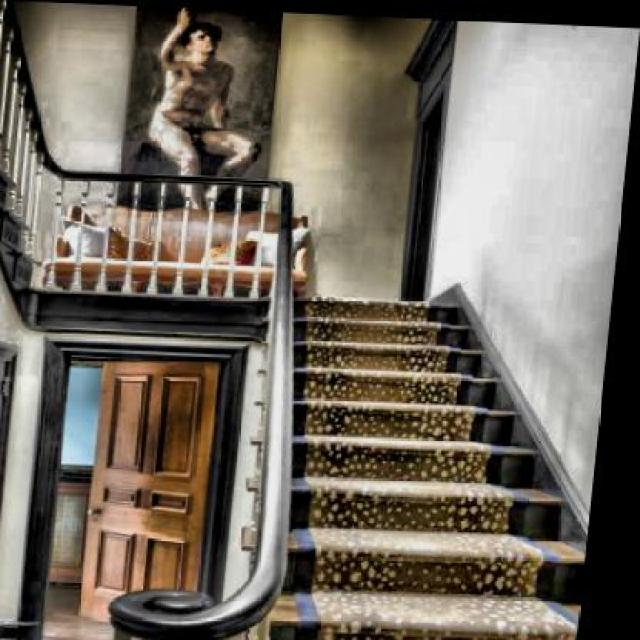stair: (258, 296, 616, 638)
